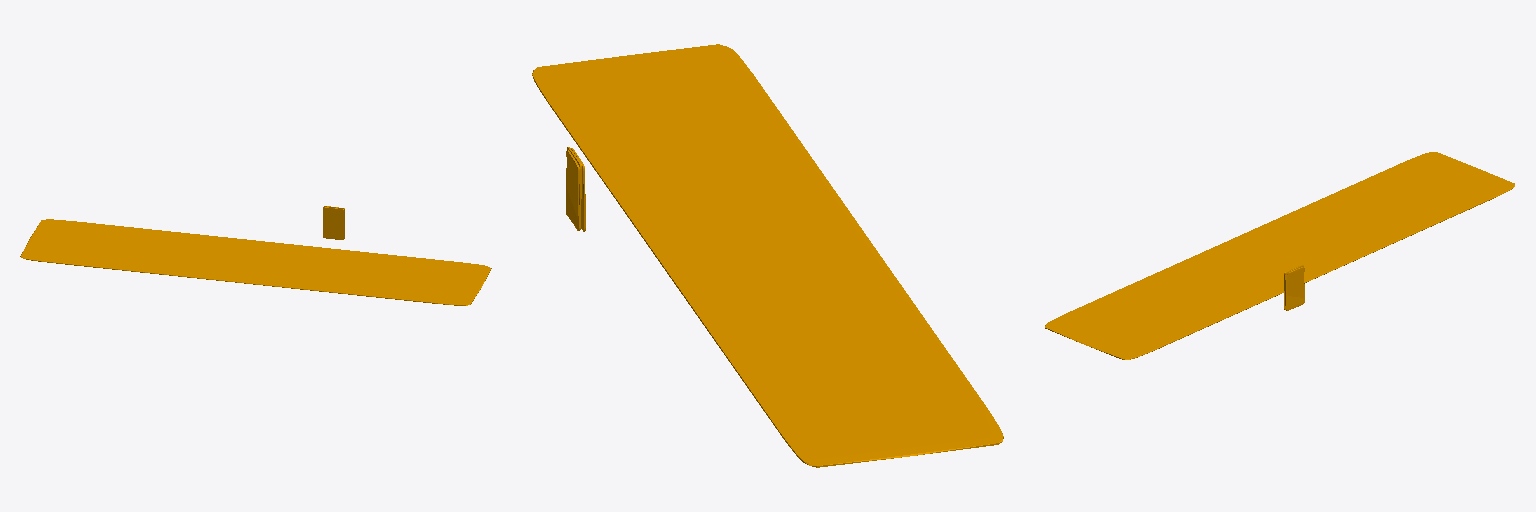
The robot description file, URDF, robot "scene":
<?xml version='1.0' encoding='utf-8'?>
<robot name="scene"><link name="scene_link"><visual><origin xyz="0.000000 0.000000 0.000000" rpy="0.000000 -0.000000 0.000000" /><geometry><mesh filename="part_000.obj" /></geometry></visual><collision><origin xyz="0.000000 0.000000 0.000000" rpy="0.000000 -0.000000 0.000000" /><geometry><mesh filename="part_000.obj" /></geometry></collision><visual><origin xyz="0.000000 0.000000 0.000000" rpy="0.000000 -0.000000 0.000000" /><geometry><mesh filename="part_001.obj" /></geometry></visual><collision><origin xyz="0.000000 0.000000 0.000000" rpy="0.000000 -0.000000 0.000000" /><geometry><mesh filename="part_001.obj" /></geometry></collision><visual><origin xyz="0.000000 0.000000 0.000000" rpy="0.000000 -0.000000 0.000000" /><geometry><mesh filename="part_002.obj" /></geometry></visual><collision><origin xyz="0.000000 0.000000 0.000000" rpy="0.000000 -0.000000 0.000000" /><geometry><mesh filename="part_002.obj" /></geometry></collision><visual><origin xyz="0.000000 0.000000 0.000000" rpy="0.000000 -0.000000 0.000000" /><geometry><mesh filename="part_003.obj" /></geometry></visual><collision><origin xyz="0.000000 0.000000 0.000000" rpy="0.000000 -0.000000 0.000000" /><geometry><mesh filename="part_003.obj" /></geometry></collision></link></robot>

--- Render facts (derived) ---
The picture shows the robot from 3 angles, left to right: view 1: azimuth 30°, elevation 25°; view 2: azimuth 150°, elevation 25°; view 3: azimuth 270°, elevation 25°; orthographic projection.
Robot: scene — 1 links, 0 joints (none); root link scene_link; default pose: every joint at zero.
Links seen in each view (by area): view 1: scene_link; view 2: scene_link; view 3: scene_link.
Link boxes in pixels (x1,y1,x2,y2): scene_link: (20, 206, 491, 305); scene_link: (532, 44, 1003, 467); scene_link: (1045, 152, 1514, 359).
Bounding box of the posed robot: 15.13 × 14.66 × 1.35 m (x, y, z).
Meshes: 4 distinct files referenced, 4 mesh visuals loaded (4 OBJ).
